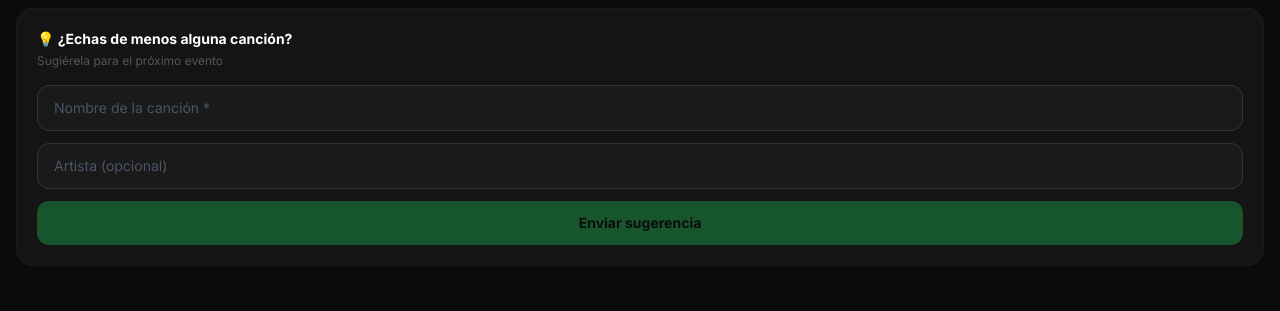
Test: SuggestionBox › shows an error if fetch fails
Step 1. Type "Hey Ya" into the field with placeholder "Nombre de la canción *" → (640, 108), box x1=37 y1=85 x2=1243 y2=131
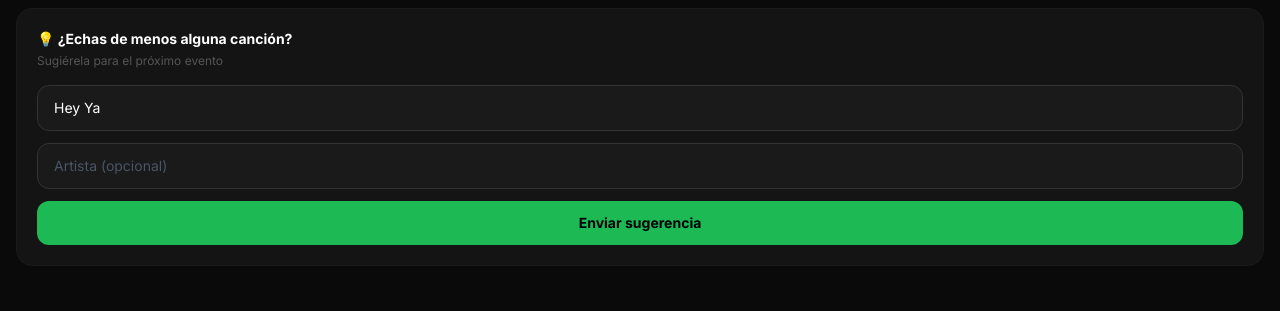
Step 2. Click the button "Enviar sugerencia" → (640, 223), box x1=37 y1=201 x2=1243 y2=245
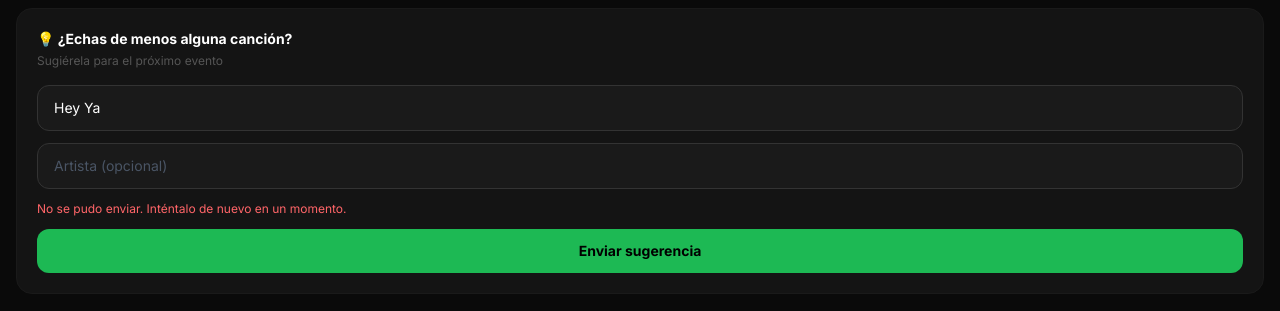
Now the message shows "No se pudo enviar", box x1=37 y1=201 x2=346 y2=216
